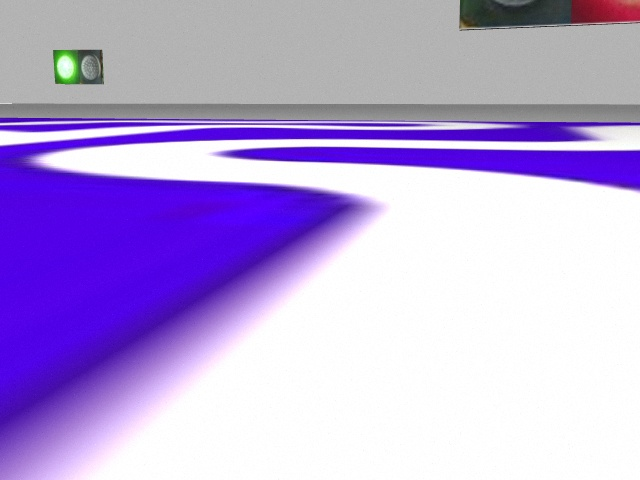red: (571, 1, 640, 23)
